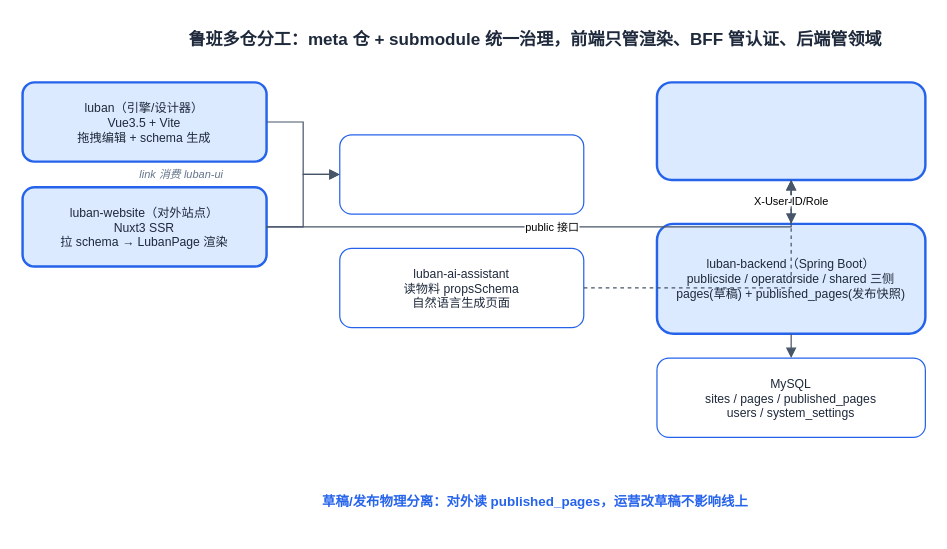
Some shapes in this 947 by 549 pixel diagram are drawn without their labels. Each missing label, with the centre of its shape:
"luban-bff（Next.js） 签 JWT → 注入 X-User-ID/Role callBackend（15s 超时） 短链 / AI 代理" belongs at point (790, 131).
"luban-ui（物料库） base / low-code / utils RuntimeRenderer + LubanPage" belongs at point (461, 174).
